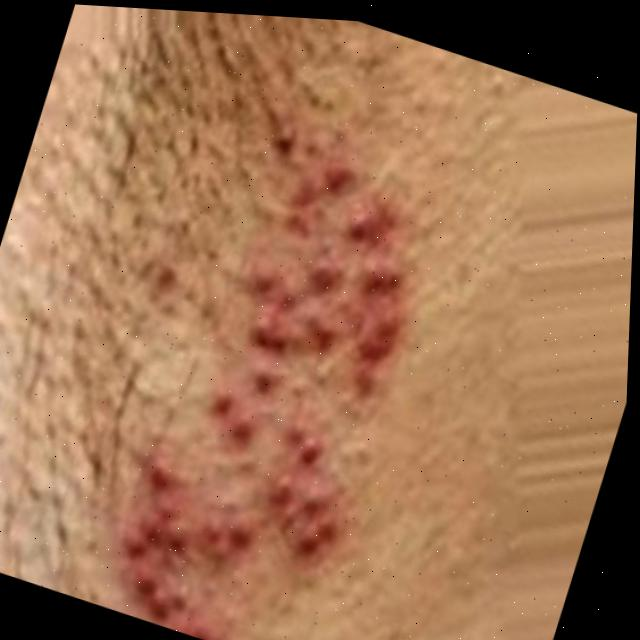Shingles: (88, 102, 453, 640)
